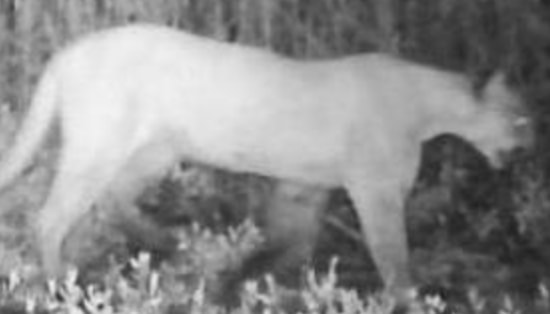Mountain Lion: (31, 23, 535, 310)
